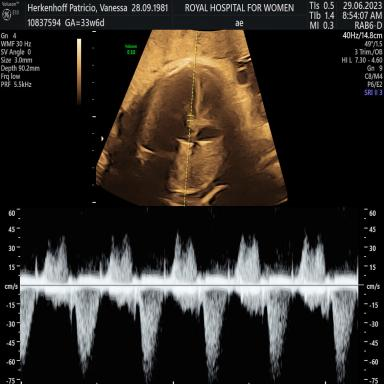Ultrasound-Waves: (26, 213, 355, 384)
